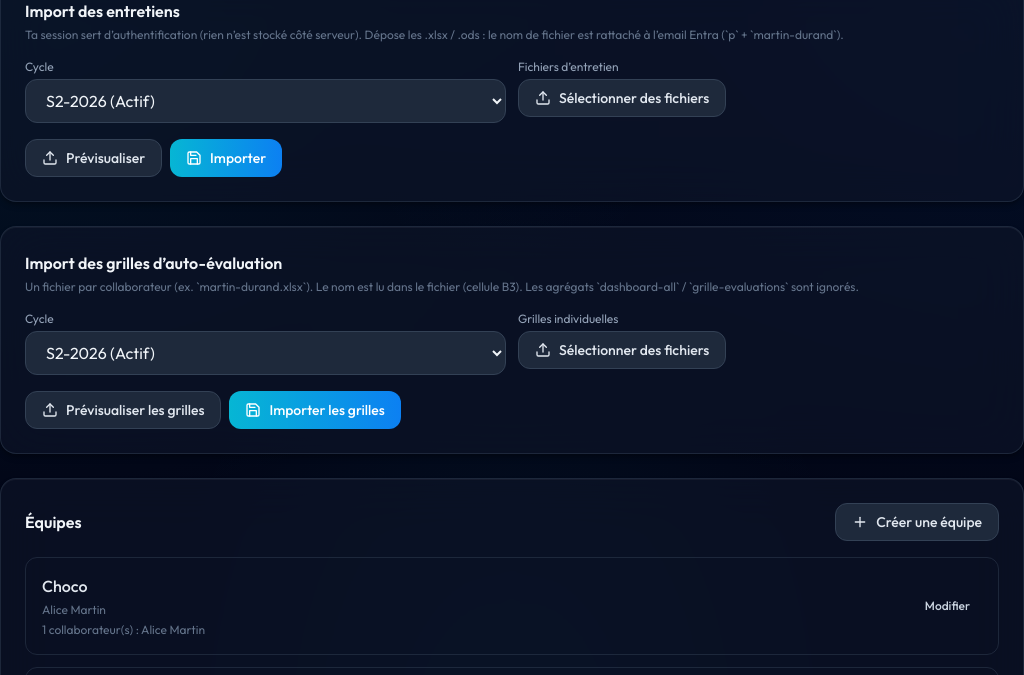
Scenario: TeamsCyclesAdminPanel › affiche une erreur si la création d'équipe échoue
Click the button "Créer une équipe": (917, 522) x1=835 y1=503 x2=999 y2=541
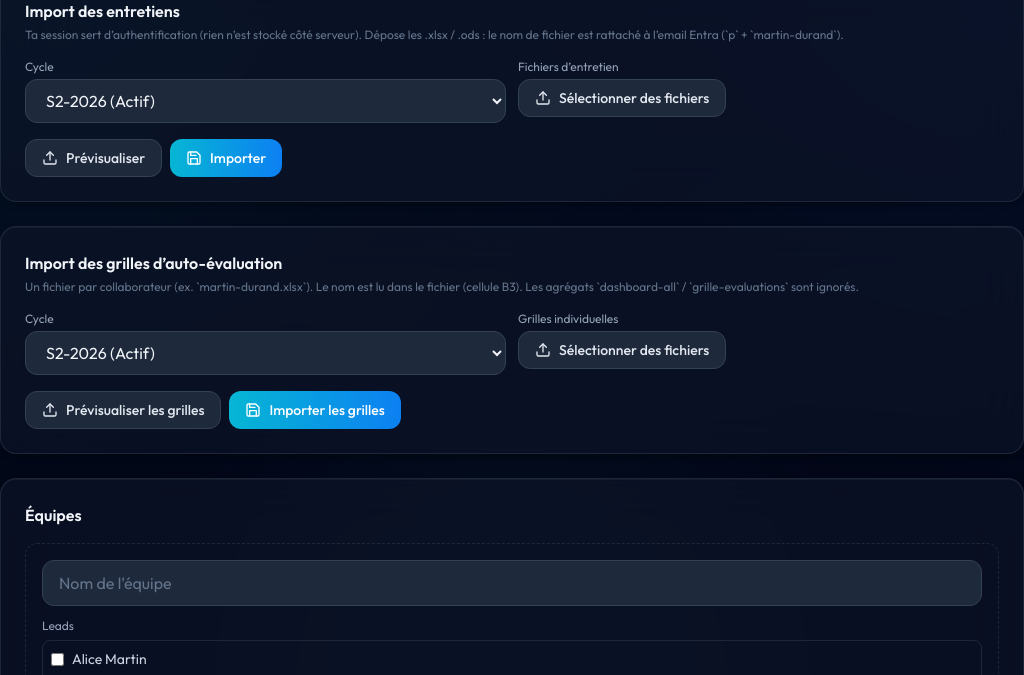
In the field with placeholder "Nom de l'équipe": (512, 583) x1=42 y1=560 x2=982 y2=606, type "Choco"
(page scrolled)
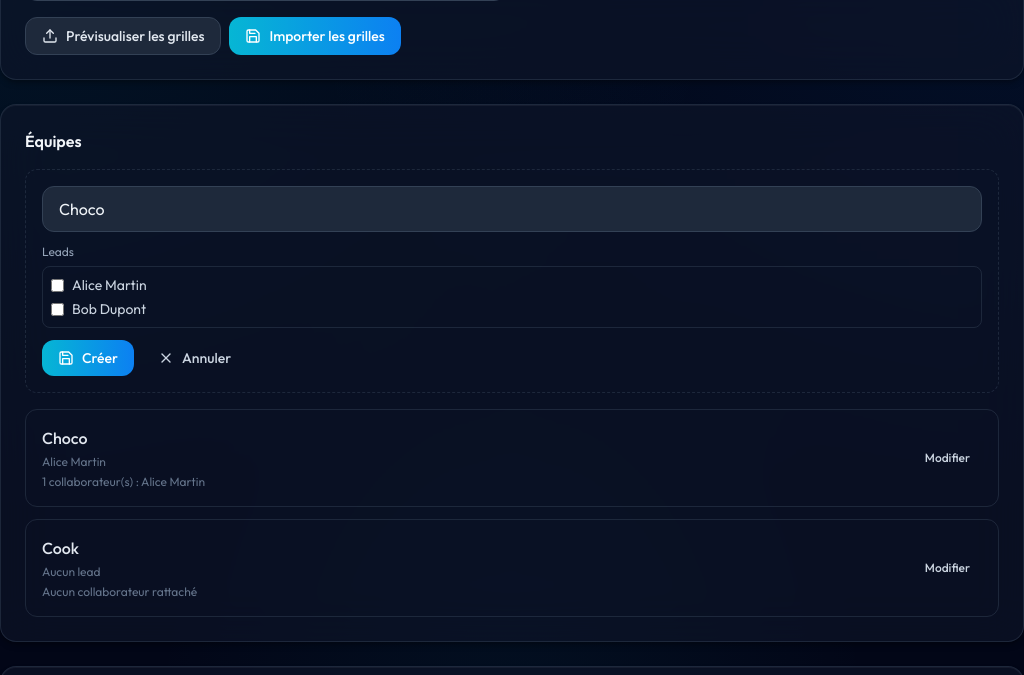
Click the button "Créer": (88, 358) x1=42 y1=340 x2=134 y2=376
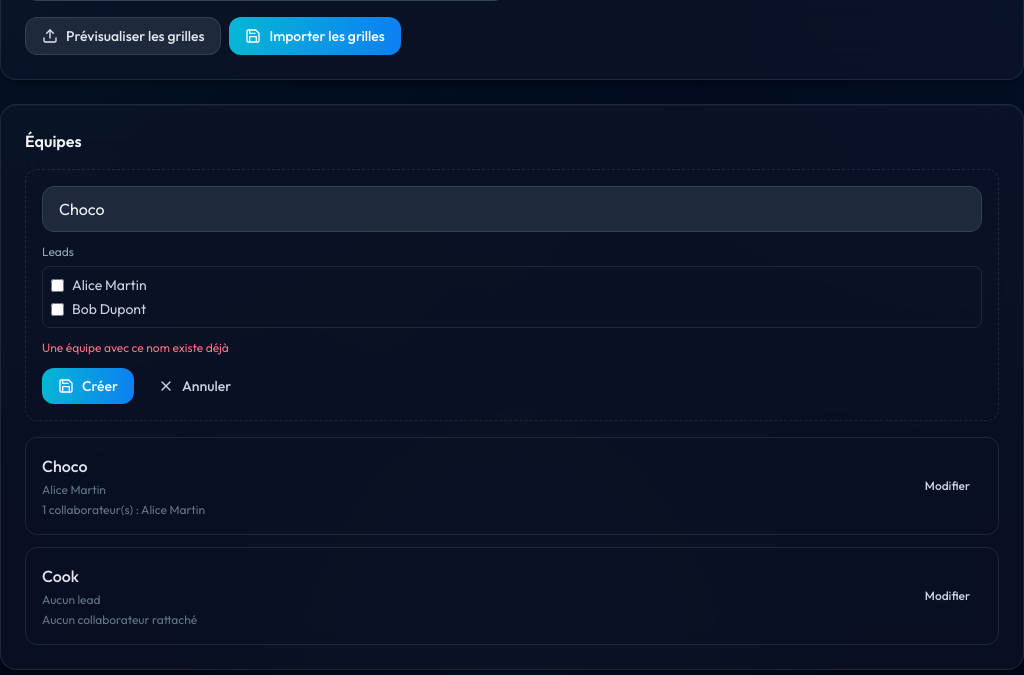
Expected: the text "Une équipe avec ce nom existe déjà" is shown, x1=42 y1=340 x2=229 y2=355
